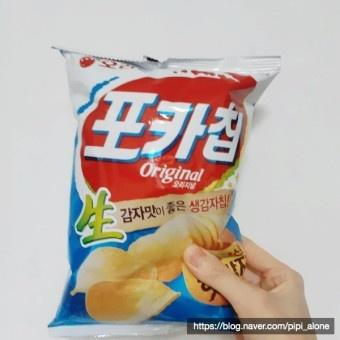snack: (48, 44, 282, 318)
